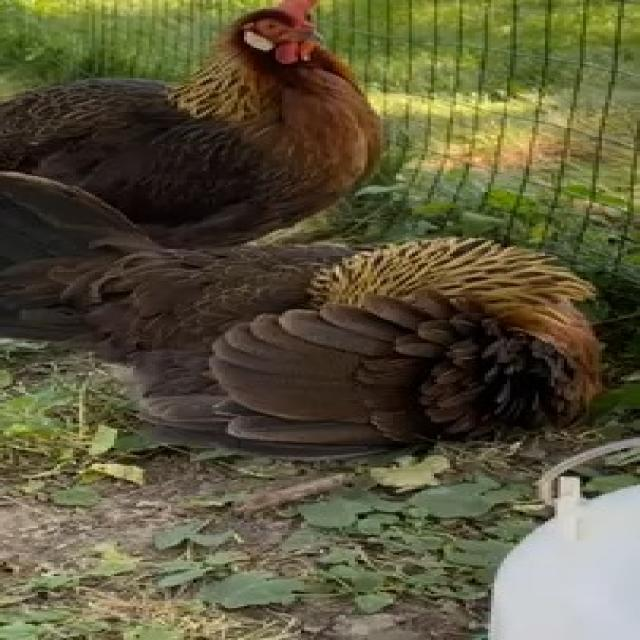self preening: (60, 227, 640, 473)
